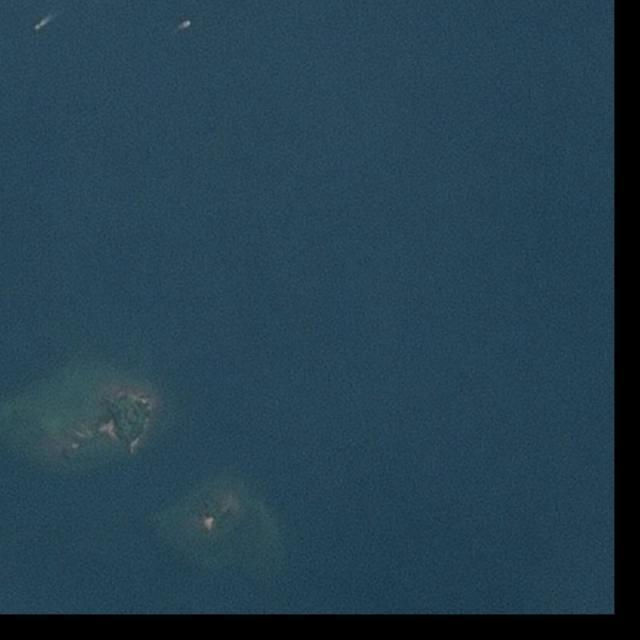ship: (33, 19, 47, 33), (181, 20, 194, 30)
